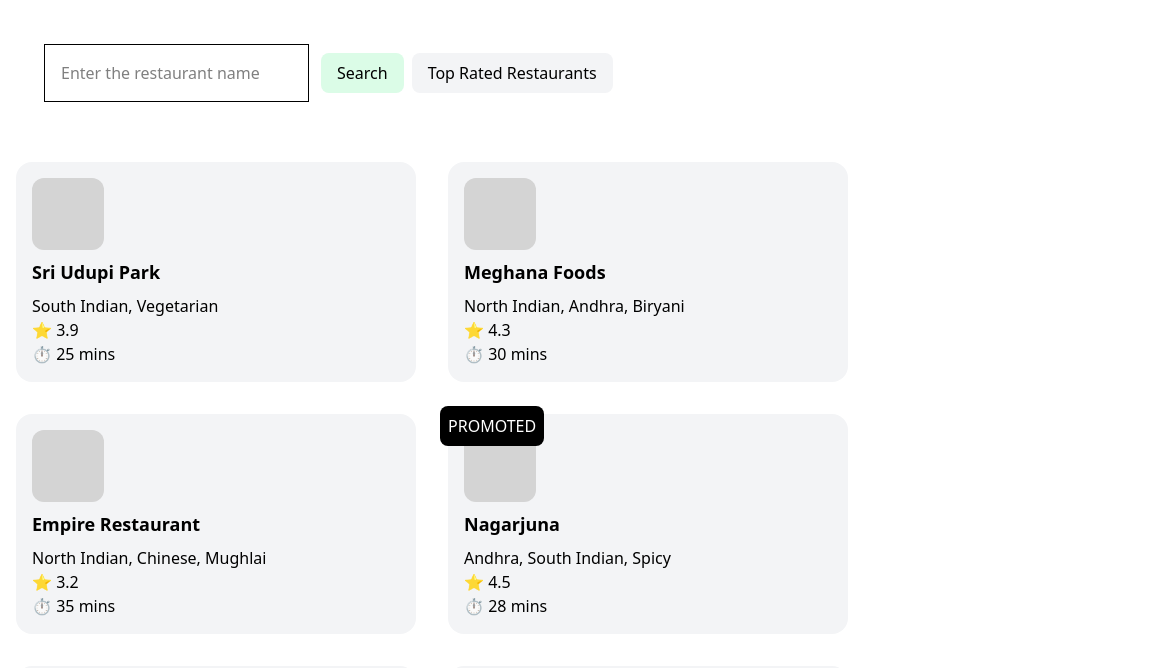
Body Component test cases › Should render all the  top rated restaurants
Click the button "Top Rated Restaurants".
click(512, 73)  # box left=412, top=53, right=613, bottom=93
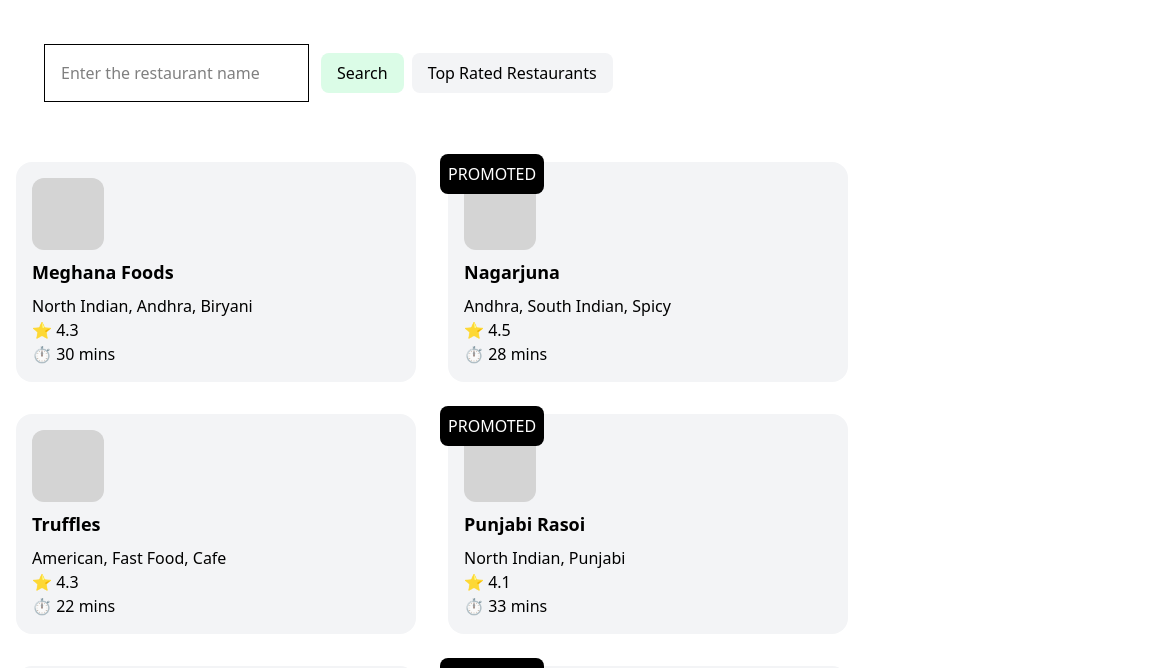
Expected: the number of elements with test id "restaurant-card" is 15
